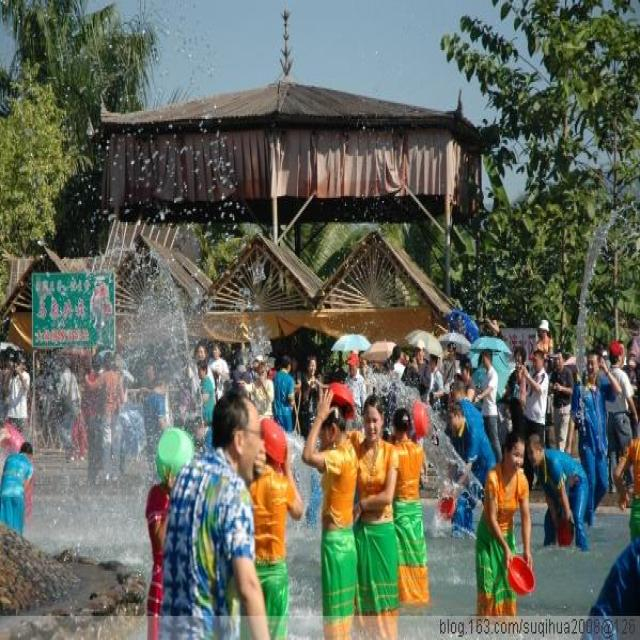non-fight: (155, 393, 278, 638), (302, 388, 368, 638), (475, 428, 532, 640), (355, 391, 400, 640)
